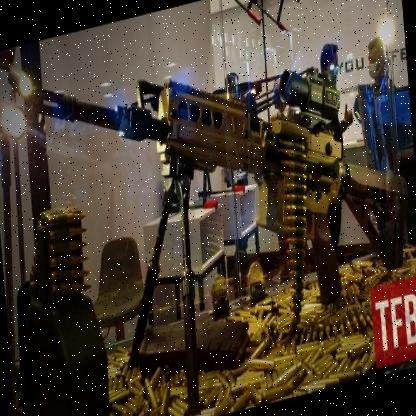rifle: (27, 0, 410, 370)
